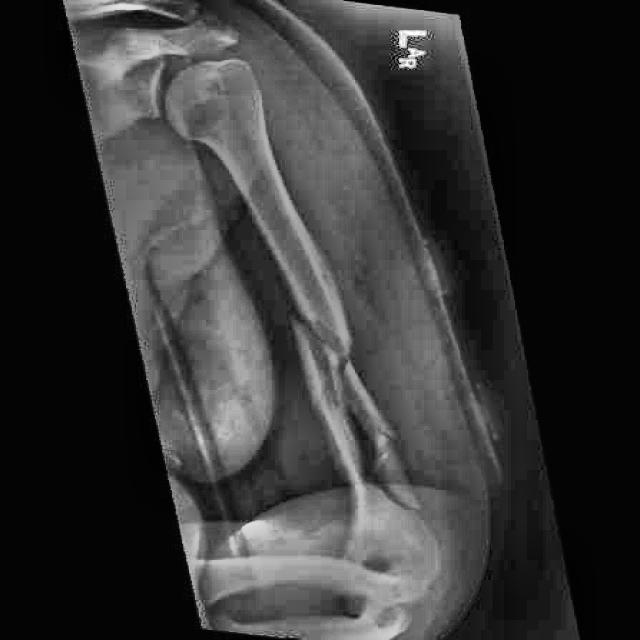humerus: (276, 290, 452, 532)
